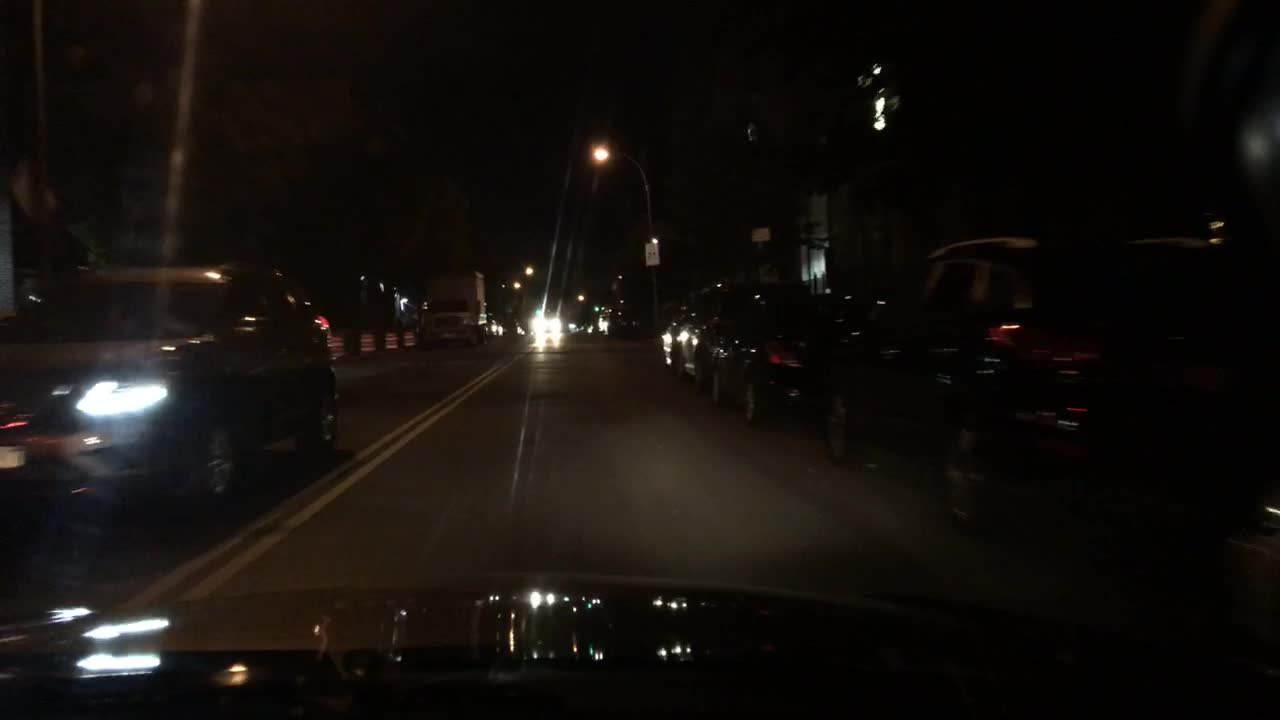car: (804, 215, 1279, 535), (0, 253, 339, 521), (706, 290, 893, 427), (656, 277, 813, 385), (1216, 496, 1279, 622), (601, 311, 636, 340), (532, 310, 561, 336), (501, 315, 526, 338), (486, 314, 506, 336), (576, 321, 599, 338)
traffic sign: (641, 239, 661, 269), (751, 227, 771, 243)
truck: (416, 270, 491, 349)
